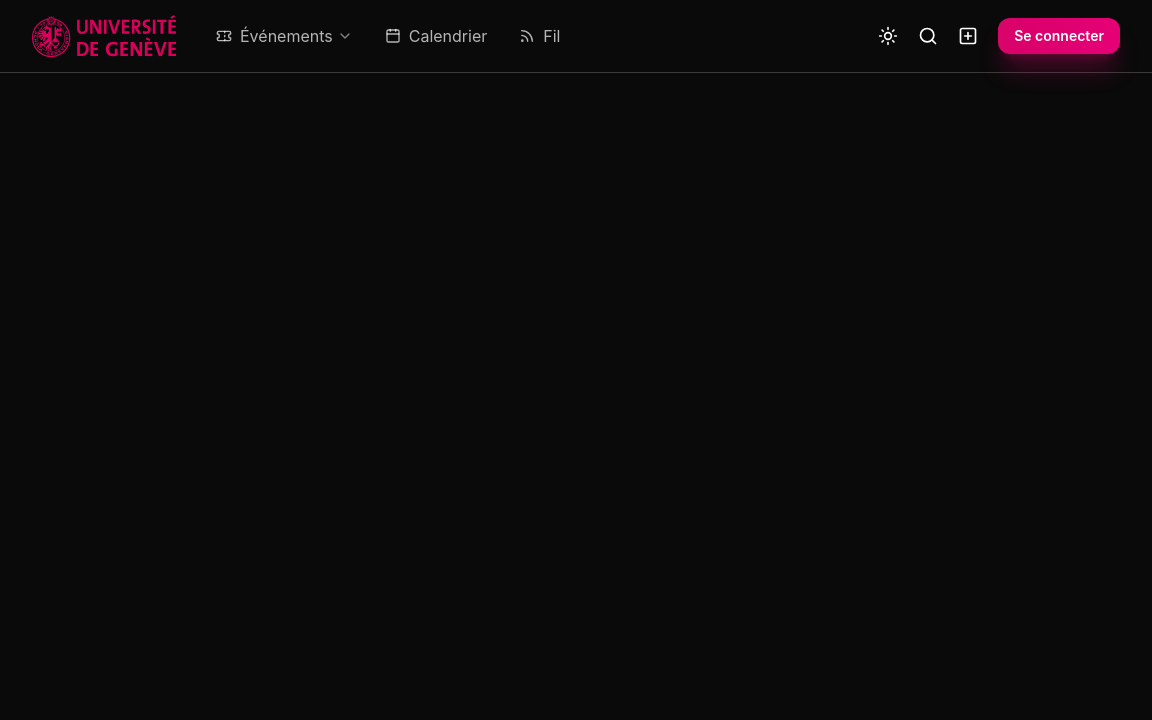
Scenario: Navbar › toggles theme on button click
Click the button named "Passer en mode clair": (888, 36) [870,18,906,54]
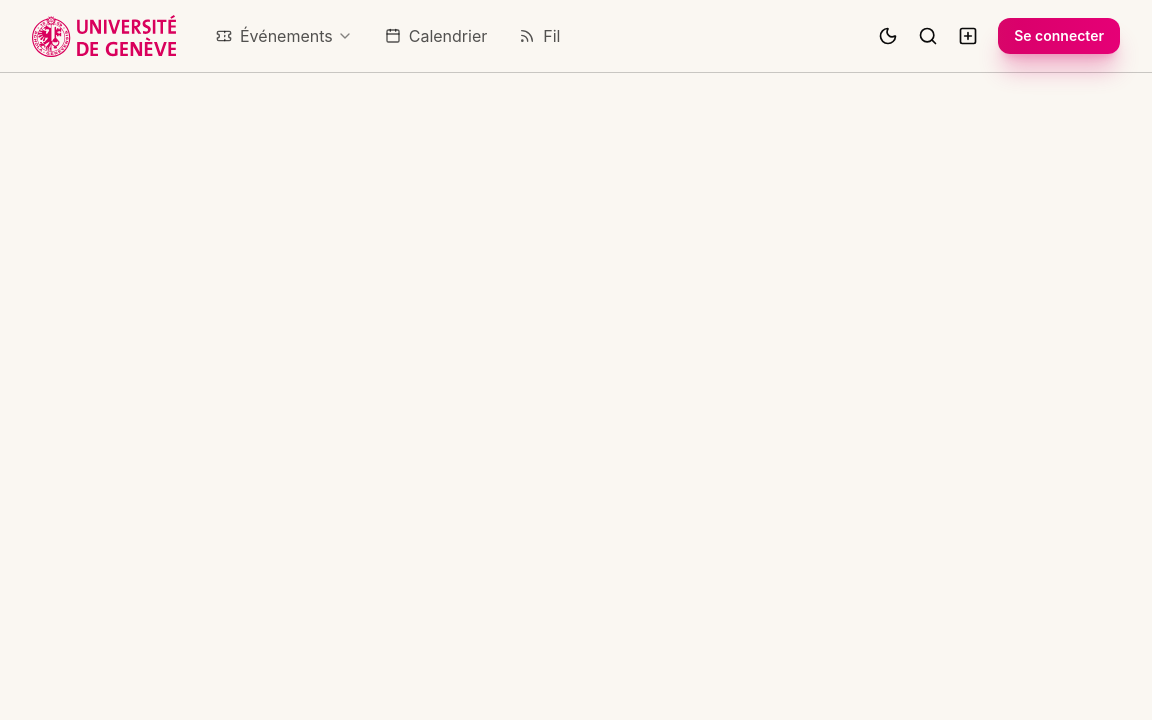
Expected: the button named "Passer en mode sombre" is shown, [870,18,906,54]
